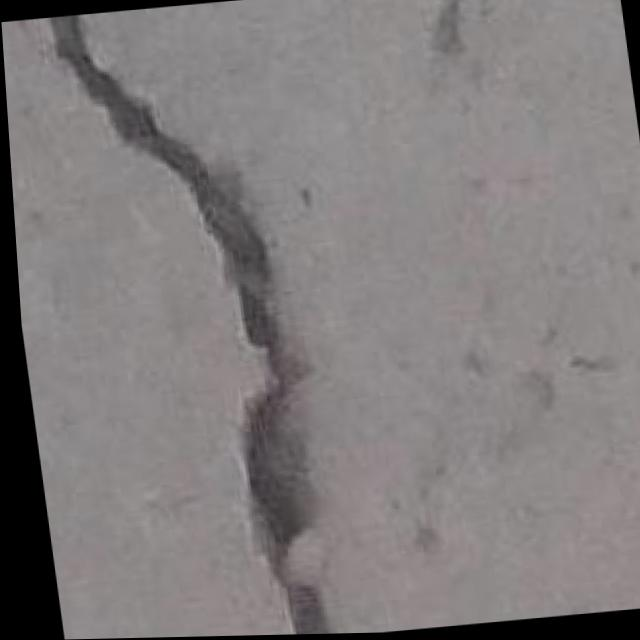Crack: (52, 0, 315, 639)
